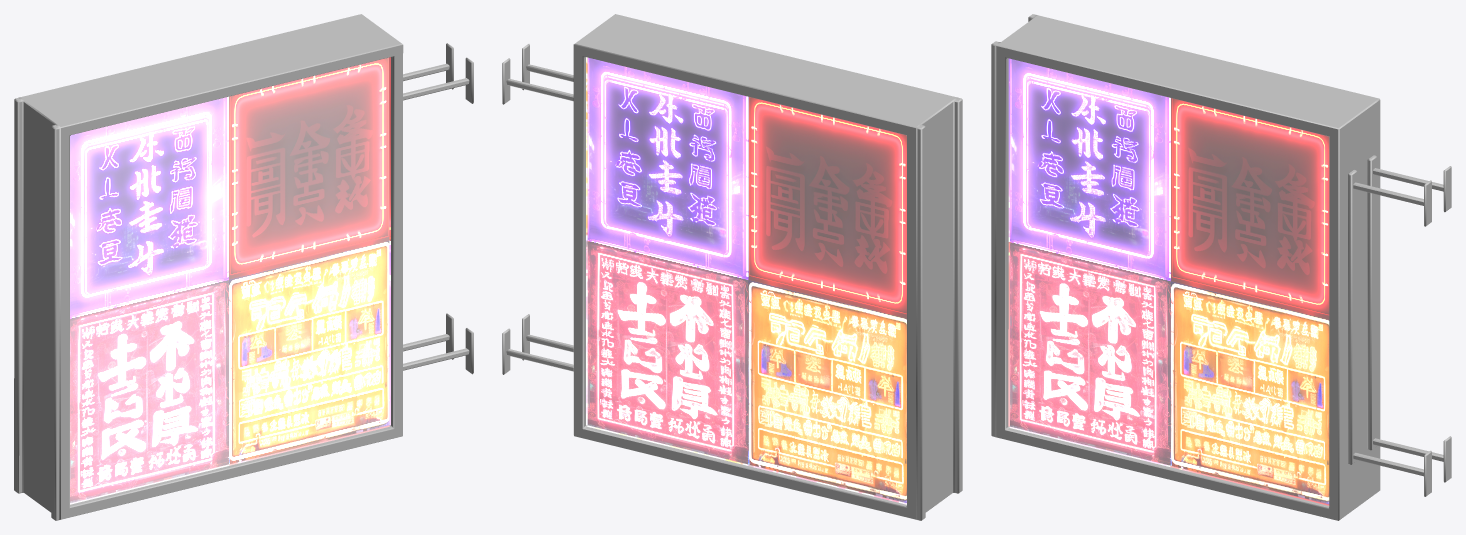
Rendered from SM_Billboard_SIde_Square.fbx.
3 renders of one model, left to right at view 1: azimuth 30°, elevation 25°; view 2: azimuth 150°, elevation 25°; view 3: azimuth 330°, elevation 25°, orthographic.
Visible parts, largest first — view 1: SM_Billboard_SIde_Square_LOD0; view 2: SM_Billboard_SIde_Square_LOD0; view 3: SM_Billboard_SIde_Square_LOD0.
Part boxes in pixels (x1,y1,x2,y2): SM_Billboard_SIde_Square_LOD0: [14, 14, 473, 520]; SM_Billboard_SIde_Square_LOD0: [502, 14, 962, 520]; SM_Billboard_SIde_Square_LOD0: [991, 14, 1451, 520].
Size of the model in its own units: 216 by 36.5 by 189.
